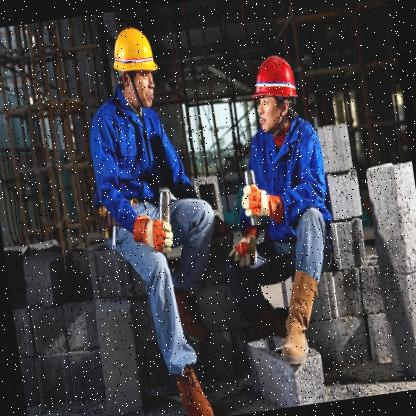capacete: (105, 19, 164, 113), (243, 48, 306, 134)
sem_colete_refletivo: (81, 88, 184, 221), (230, 118, 334, 235)
